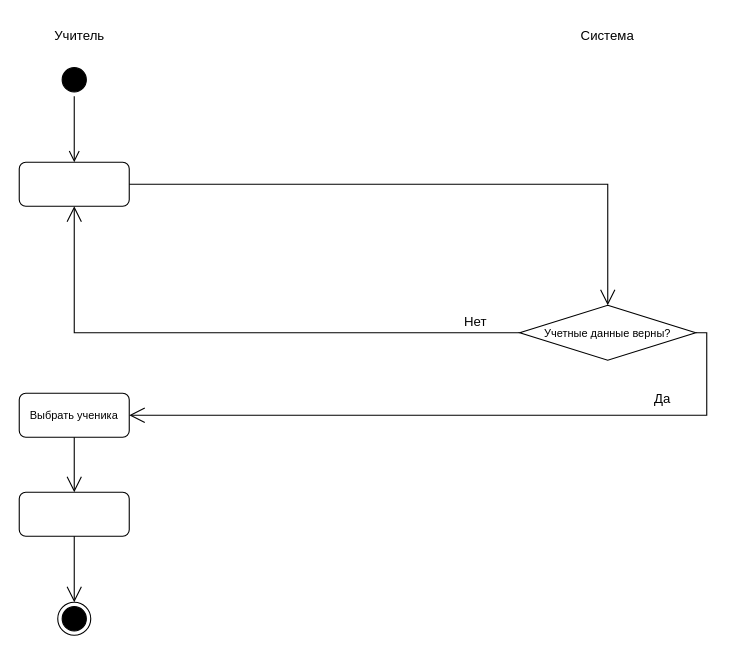
Some shapes in this 741 by 655 pixel diagram are drawn without their labels. Here are the shapes that lost their labels. From the top down, the centre of each, then its label:
At pixel 73 183: "Вход в систему".
At pixel 73 513: "Выставить оценку".
